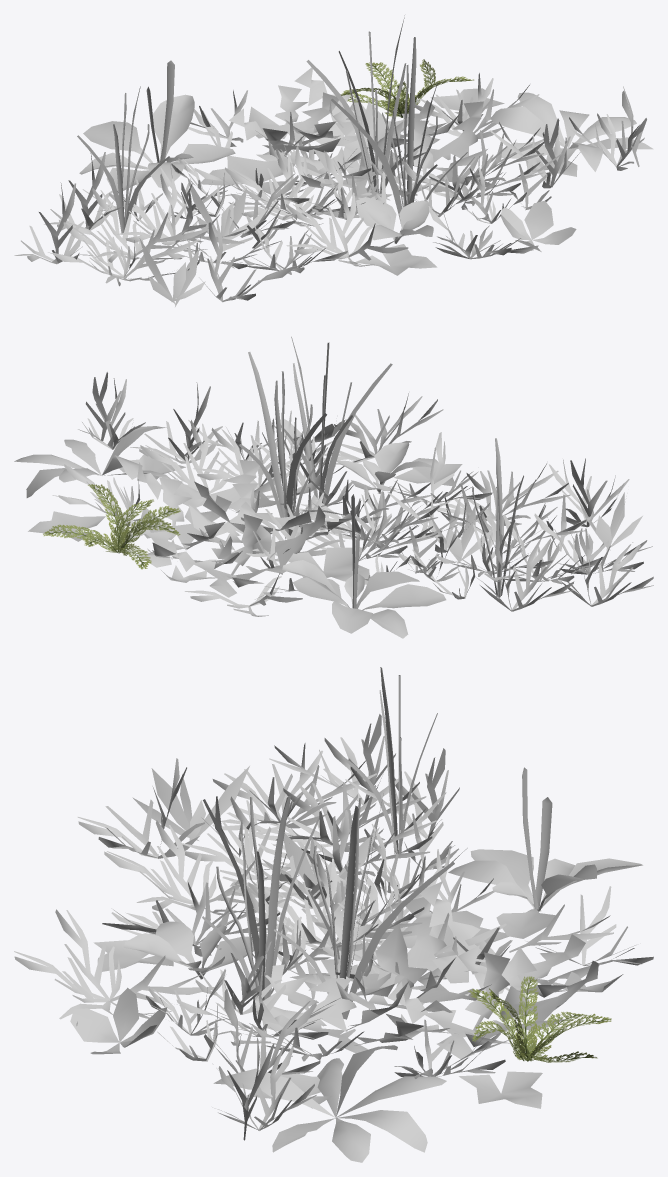
Rendered from SM_Plant_Grass_Field_Assemble_04.gltf.
3 renders of one model, top to bottom at view 1: azimuth 30°, elevation 25°; view 2: azimuth 150°, elevation 25°; view 3: azimuth 270°, elevation 25°, orthographic. The views are drawn at different scales.
Visible parts, largest first — view 1: SM_Plant_Grass_Field_Assemble_04; view 2: SM_Plant_Grass_Field_Assemble_04; view 3: SM_Plant_Grass_Field_Assemble_04.
Boxes of the visible parts, x1,y1,x2,y2 form: SM_Plant_Grass_Field_Assemble_04: [14, 15, 653, 306]; SM_Plant_Grass_Field_Assemble_04: [14, 336, 653, 638]; SM_Plant_Grass_Field_Assemble_04: [14, 667, 653, 1162].
Bounding box in the file's own units: 1.65 × 0.4602 × 1.13.
